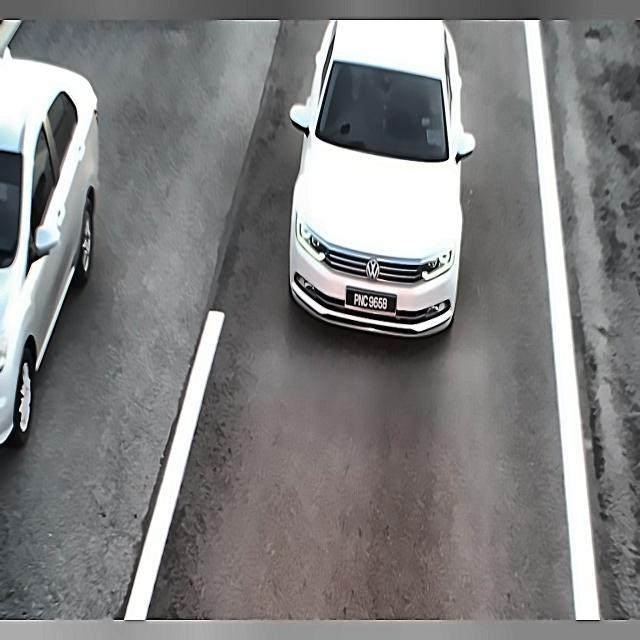car: (342, 284, 403, 321)
